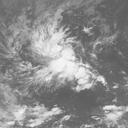cyclone: (32, 30, 87, 87)
